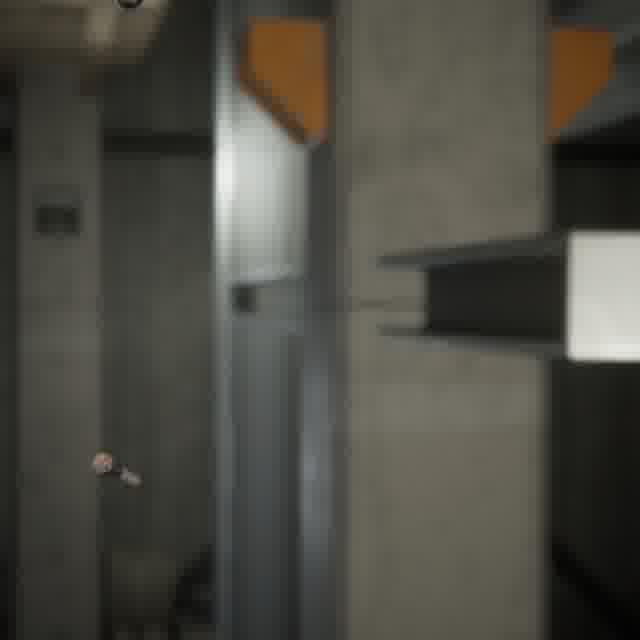bolt: (87, 447, 145, 488)
